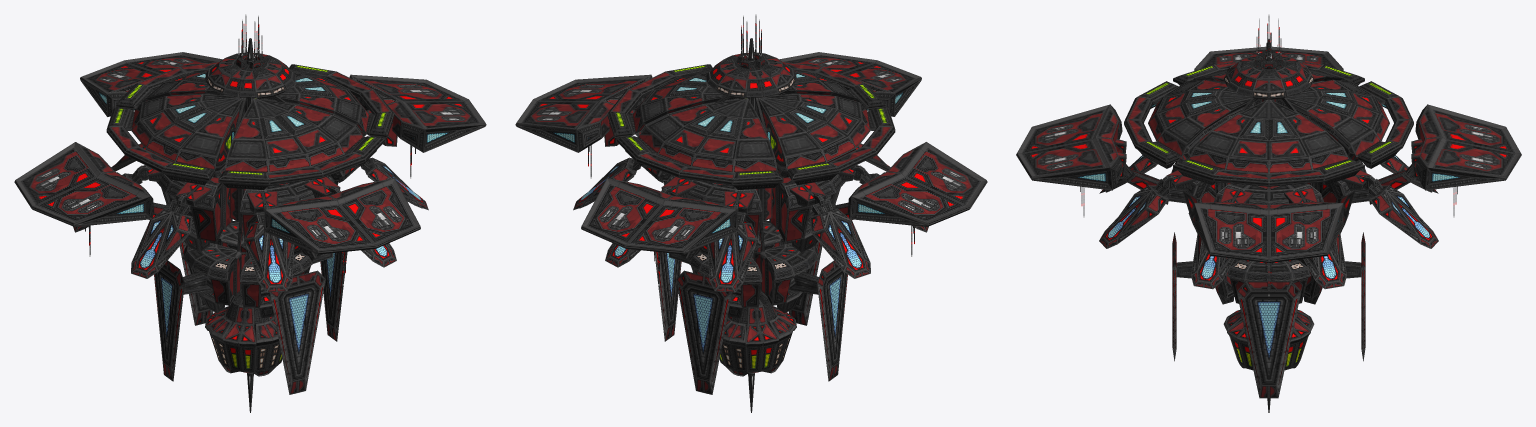
File: BFP_StarbaseTestModel01.FBX
3 renders of one model, left to right at view 1: azimuth 30°, elevation 25°; view 2: azimuth 150°, elevation 25°; view 3: azimuth 270°, elevation 25°, orthographic.
Visible parts, largest first — view 1: StarbaseTexture01Components, BFP_StarbaseTestModel01; view 2: StarbaseTexture01Components, BFP_StarbaseTestModel01; view 3: StarbaseTexture01Components, BFP_StarbaseTestModel01.
Part boxes in pixels (x1=…): StarbaseTexture01Components: x1=14, y1=52, x2=486, y2=318; BFP_StarbaseTestModel01: x1=73, y1=14, x2=428, y2=412; StarbaseTexture01Components: x1=515, y1=52, x2=987, y2=318; BFP_StarbaseTestModel01: x1=573, y1=14, x2=928, y2=412; StarbaseTexture01Components: x1=1016, y1=46, x2=1521, y2=304; BFP_StarbaseTestModel01: x1=1080, y1=14, x2=1457, y2=412.
Bounding box in the file's own units: 7506 × 6462 × 7506.
Materials: 2 (2 with a texture image).
